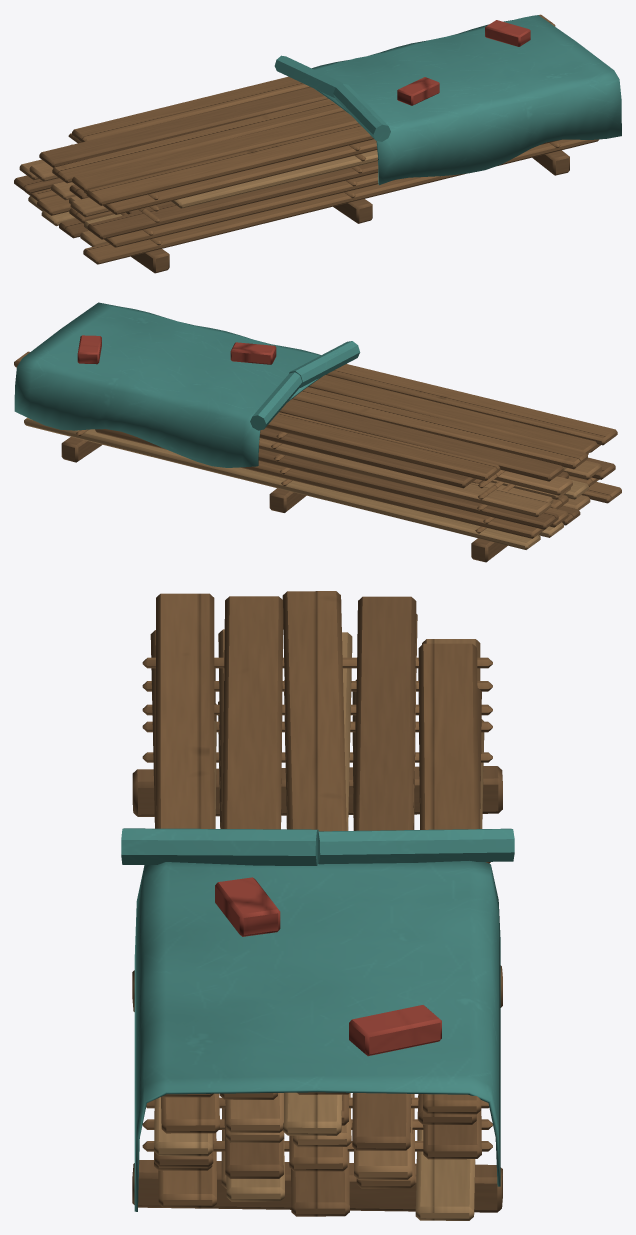
File: plank_pile.glb
3 views of the same model, one above another, from view 1: azimuth 30°, elevation 25°; view 2: azimuth 150°, elevation 25°; view 3: azimuth 270°, elevation 25° (orthographic). The views are drawn at different scales.
Visible parts, largest first — view 1: plank_pile; view 2: plank_pile; view 3: plank_pile.
Part boxes in pixels (left/top/right/bottom): plank_pile: left=14, top=14, right=621, bottom=273; plank_pile: left=14, top=302, right=621, bottom=562; plank_pile: left=121, top=591, right=514, bottom=1220.
Bounding box in the file's own units: 3.15 × 0.57 × 1.01.
6 materials, 6 textured.
